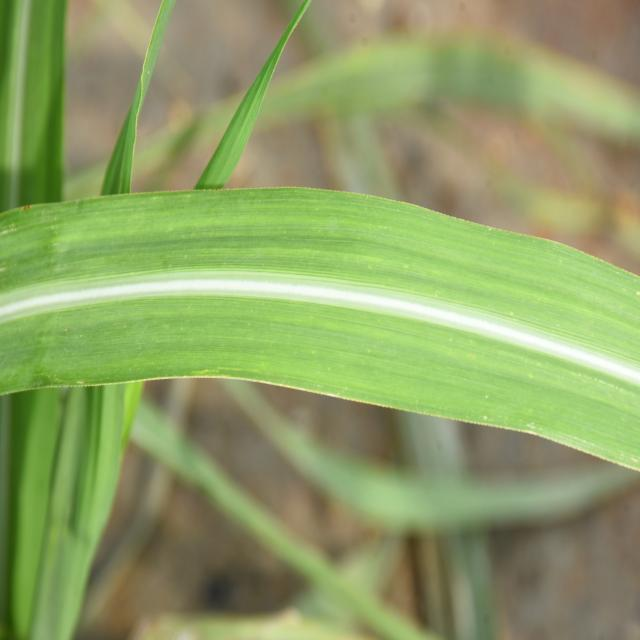Sugarcane: (0, 189, 640, 477)
